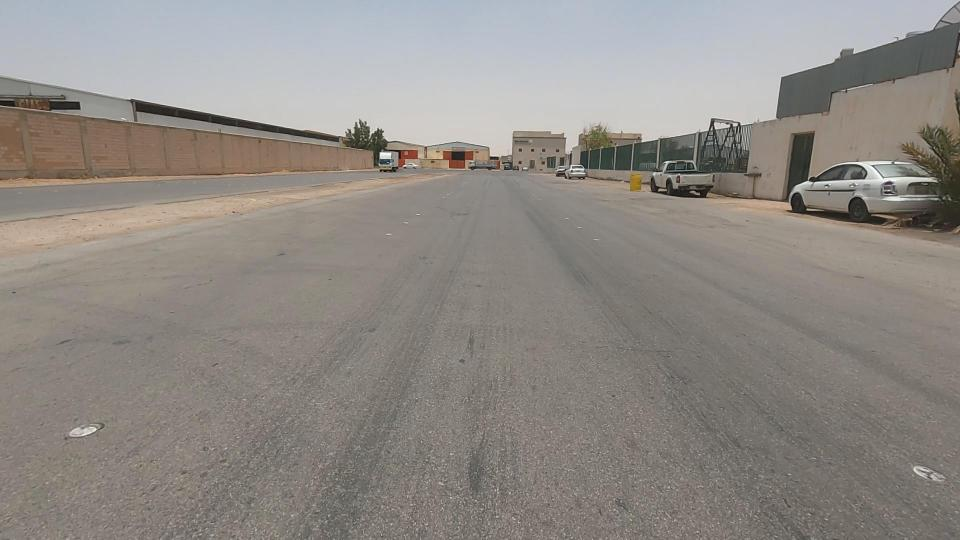CLUTTER_SIDEWALK: (22, 174, 216, 266), (241, 155, 443, 215), (148, 175, 310, 233)
